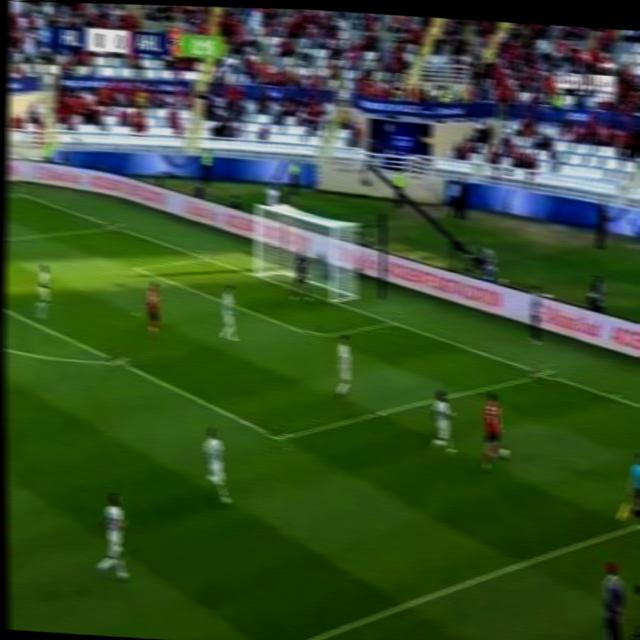bigarea_bottom_inner: (265, 420, 291, 453)
bigarea_bottom_outter: (530, 360, 555, 385)
bigarea_top_outter: (102, 216, 124, 236)
bottom_arc_area_intersection: (103, 347, 128, 373)
corner: (8, 184, 29, 199)
smallarea_bottom_inner: (305, 323, 328, 347)
smallarea_bottom_outter: (378, 308, 402, 333)
smallarea_top_inner: (123, 256, 149, 279)
smallarea_top_outter: (193, 247, 215, 267)
